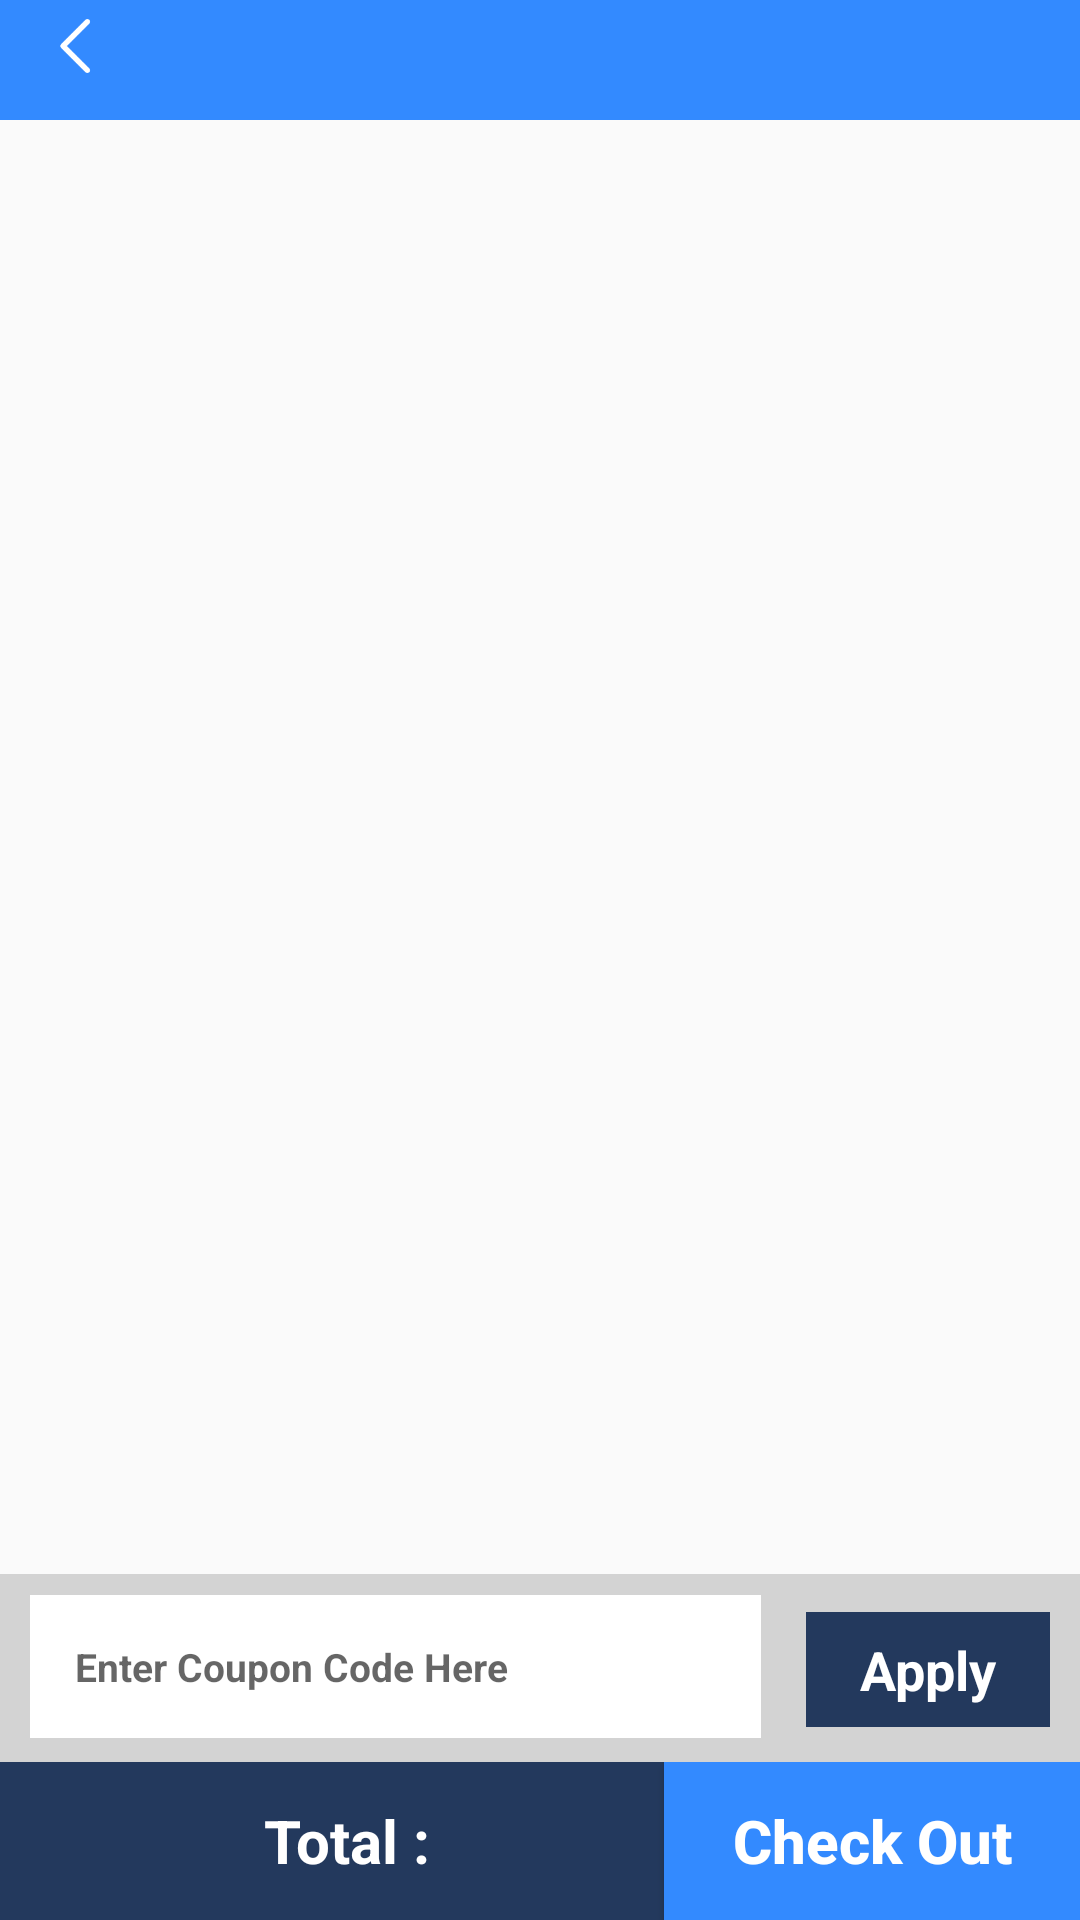

Locate icon controls on the screen. Image size 1080×1920, boxes as (x1, y1, x2, y2).
back arrow: (60, 19, 90, 73)
